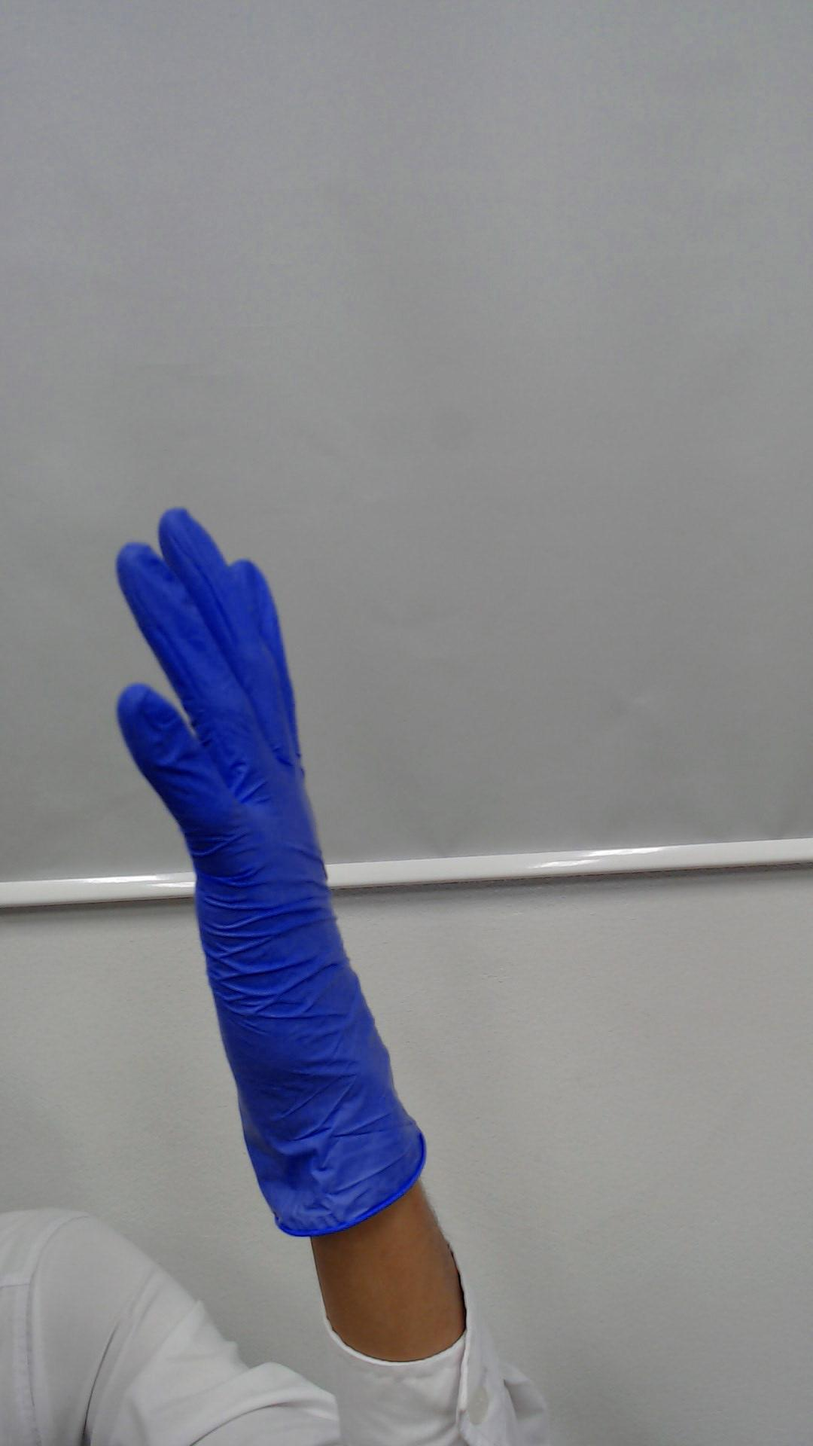gloves: (101, 472, 404, 1015)
